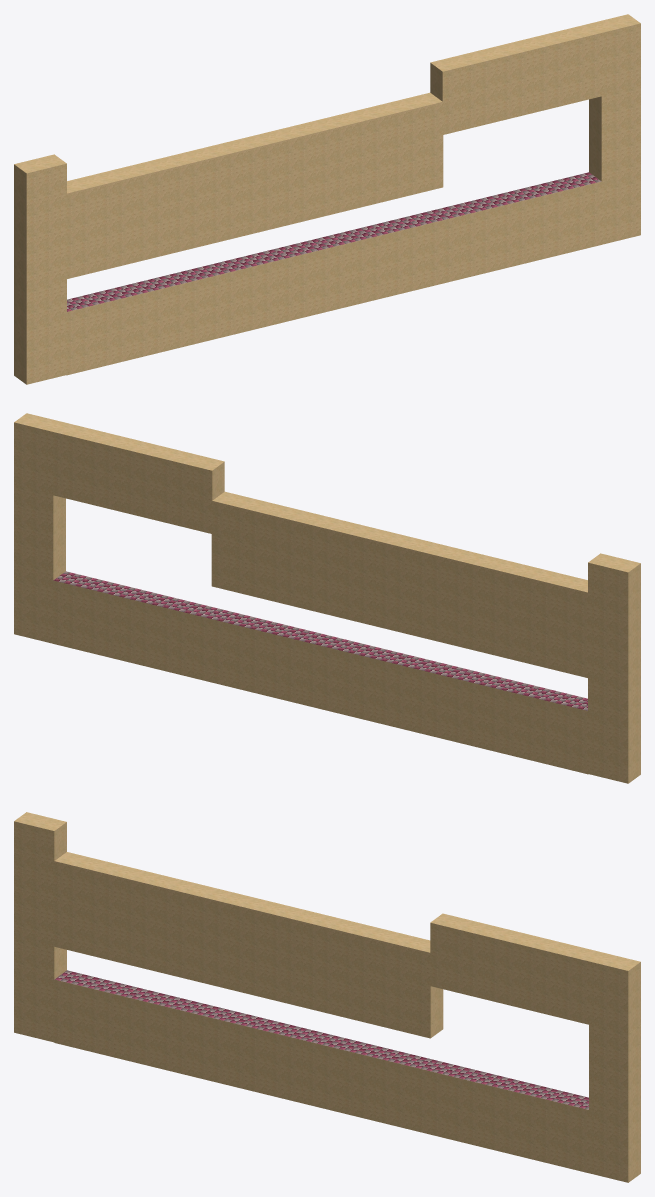
File: LVL3.FBX
3 views of the same model, one above another, from view 1: azimuth 30°, elevation 25°; view 2: azimuth 150°, elevation 25°; view 3: azimuth 330°, elevation 25° (orthographic).
Parts seen in each view (by area): view 1: Cube__18__2; view 2: Cube__18__2; view 3: Cube__18__2.
Boxes of the visible parts, box(x1,y1,x2,y2) form: Cube__18__2: box(14, 14, 640, 384); Cube__18__2: box(14, 413, 640, 783); Cube__18__2: box(14, 812, 640, 1182).
Bounding box in the file's own units: 56.28 × 18.55 × 2.
Materials: 2 (2 with a texture image).
